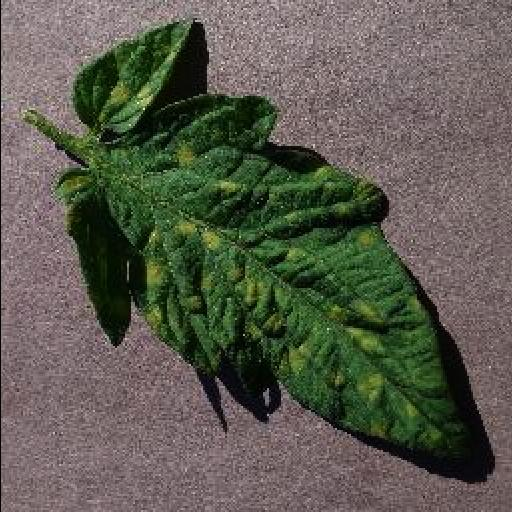disease_tomato: (50, 23, 468, 455)
